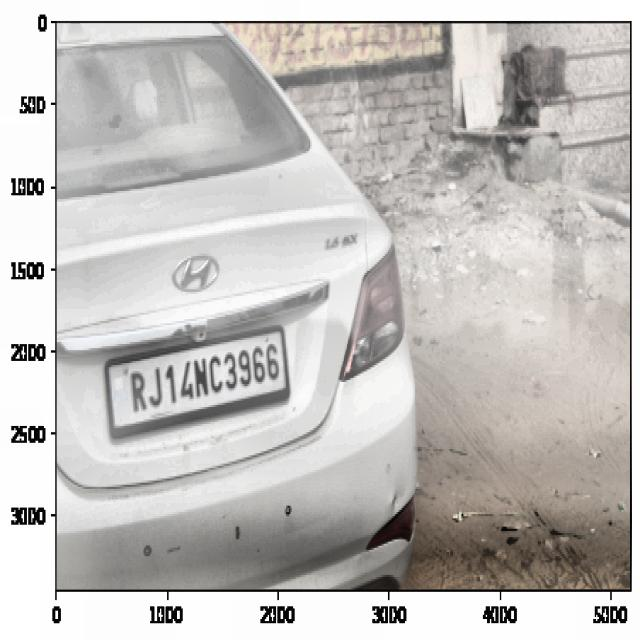license_plate: (127, 338, 283, 417)
